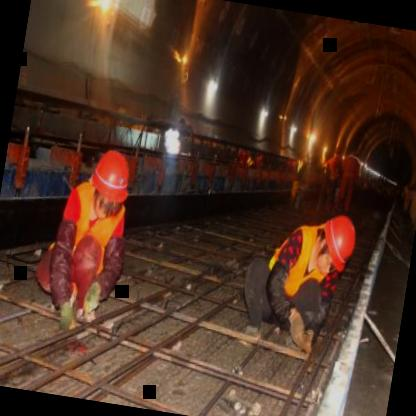helmet: (304, 202, 364, 290), (81, 142, 136, 230)
